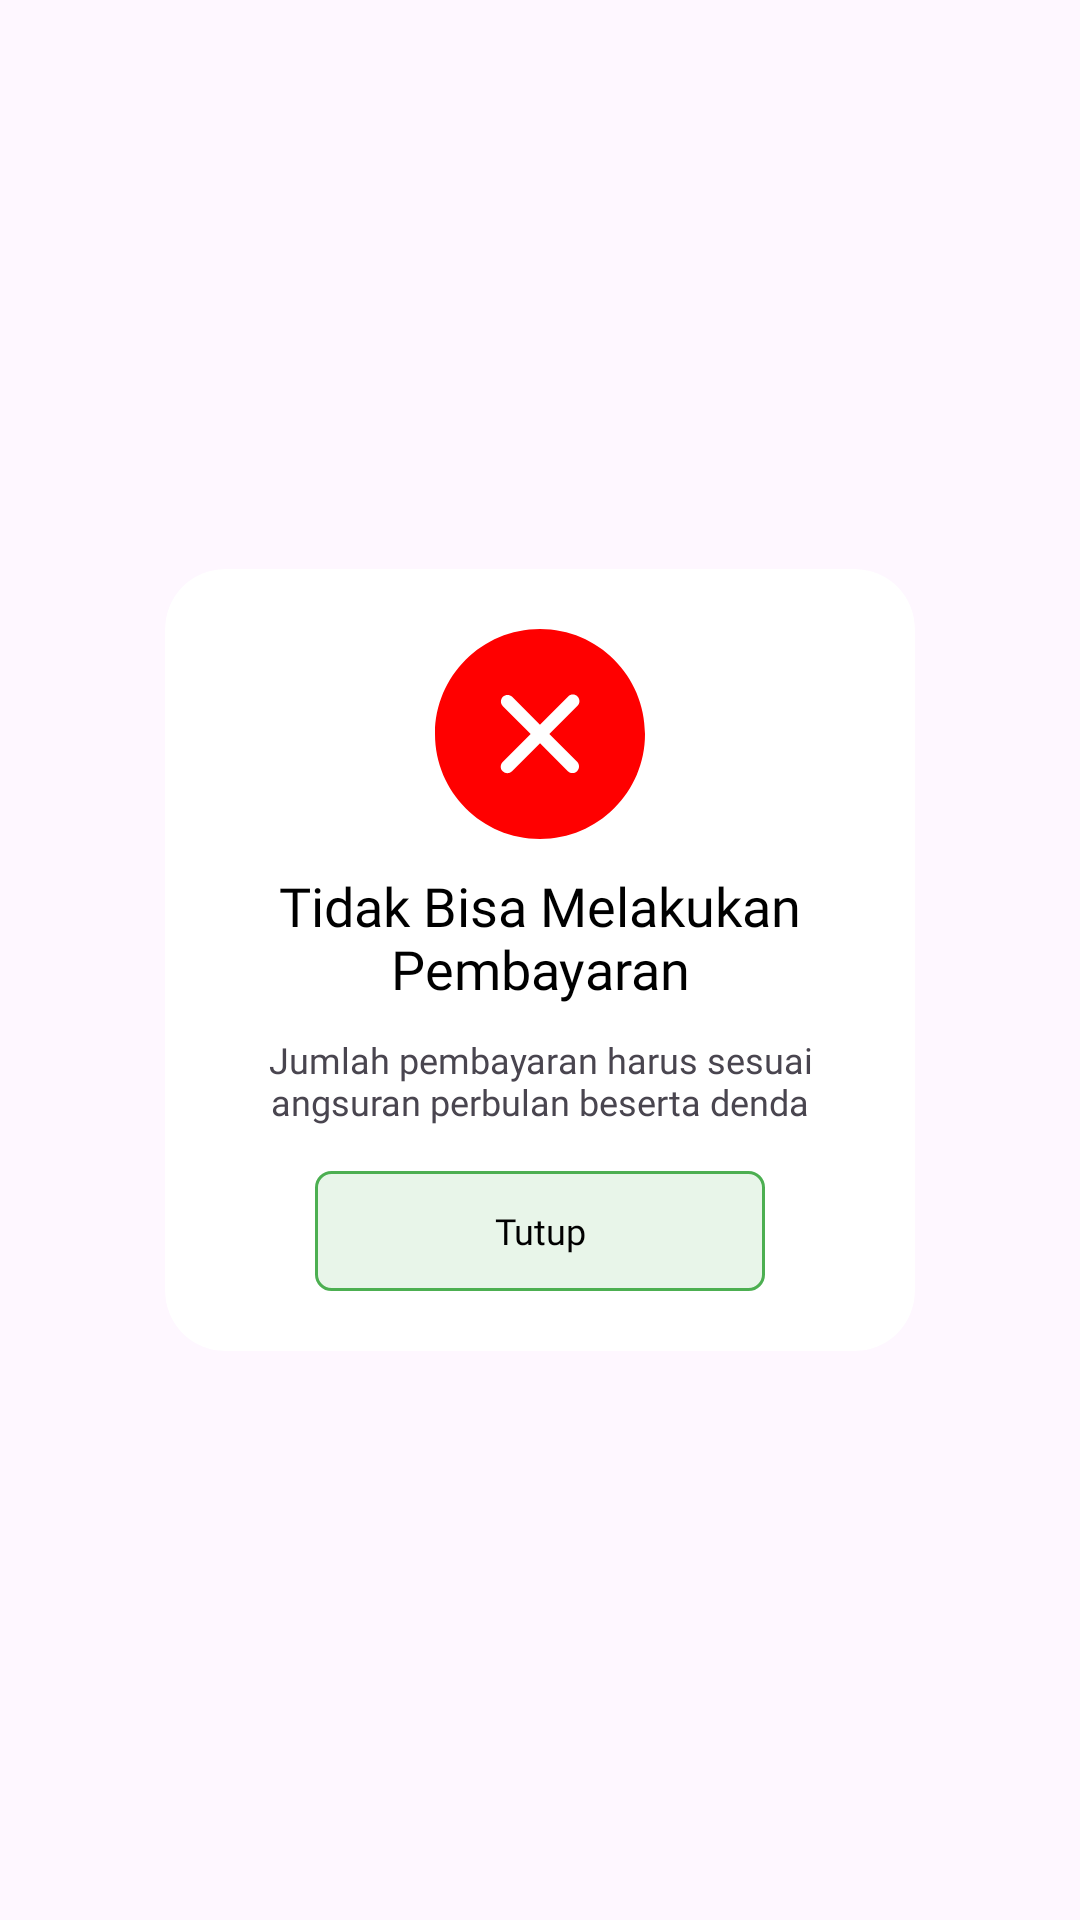

Named icons in this screenshot (1080 × 1920) and their bounding boxes, (x1, y1, x2, y2):
cross: (435, 629, 645, 839)
